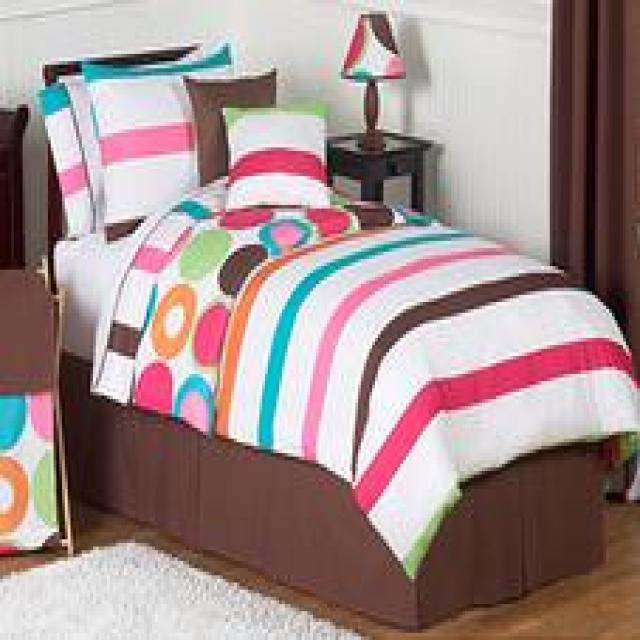bed: (37, 36, 640, 635)
